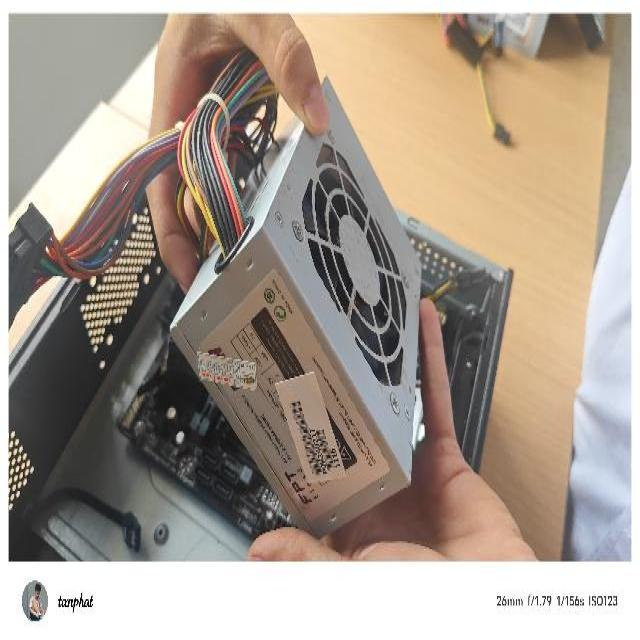PSU: (166, 58, 427, 538)
